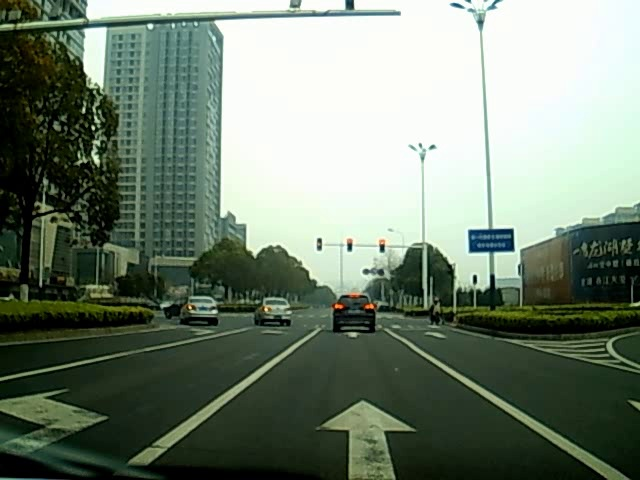Traffic_Light_stop: (379, 238, 386, 254), (345, 239, 352, 253)
